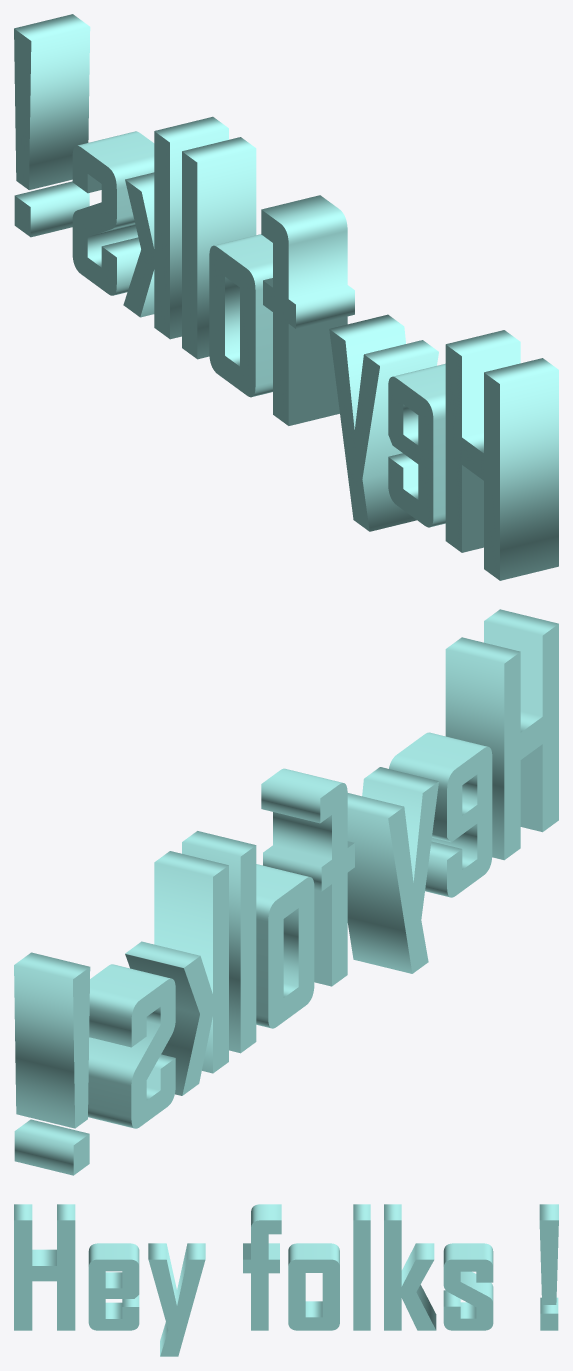
Rendered from heyfolks.glb.
The picture shows the model from 3 angles, top to bottom: view 1: azimuth 30°, elevation 25°; view 2: azimuth 150°, elevation 25°; view 3: azimuth 270°, elevation 25°; orthographic projection. The views are drawn at different scales.
Visible parts, largest first — view 1: 文本; view 2: 文本; view 3: 文本.
Boxes of the visible parts, x1,y1,x2,y2 form: 文本: (14, 14, 558, 580); 文本: (14, 609, 558, 1175); 文本: (14, 1204, 558, 1356).
Bounding box in the file's own units: 0.2 × 0.7887 × 2.86.
